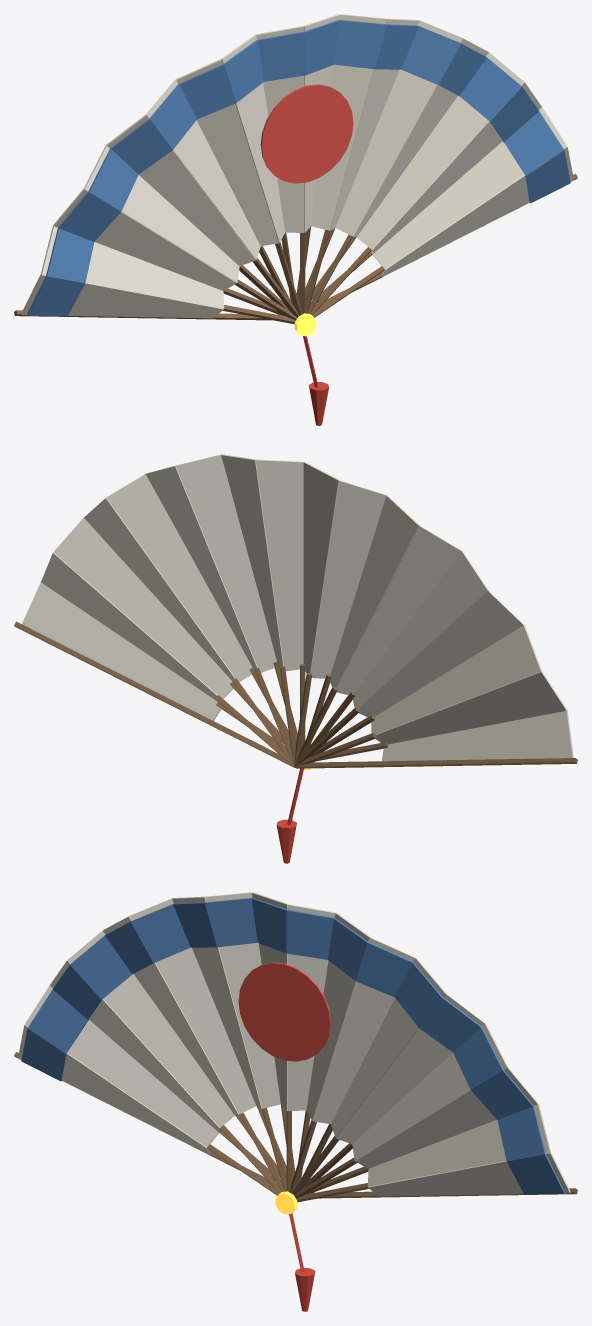
Rendered from jp_fan.glb.
3 views of the same model, one above another, from view 1: azimuth 30°, elevation 25°; view 2: azimuth 150°, elevation 25°; view 3: azimuth 330°, elevation 25° (orthographic).
Parts seen in each view (by area): view 1: jp_fan; view 2: jp_fan; view 3: jp_fan.
Boxes of the visible parts, x1,y1,x2,y2 form: jp_fan: (14,14,577,425); jp_fan: (14,454,577,863); jp_fan: (14,892,577,1311).
Size of the model in its own units: 1.23 by 0.8401 by 0.052.
